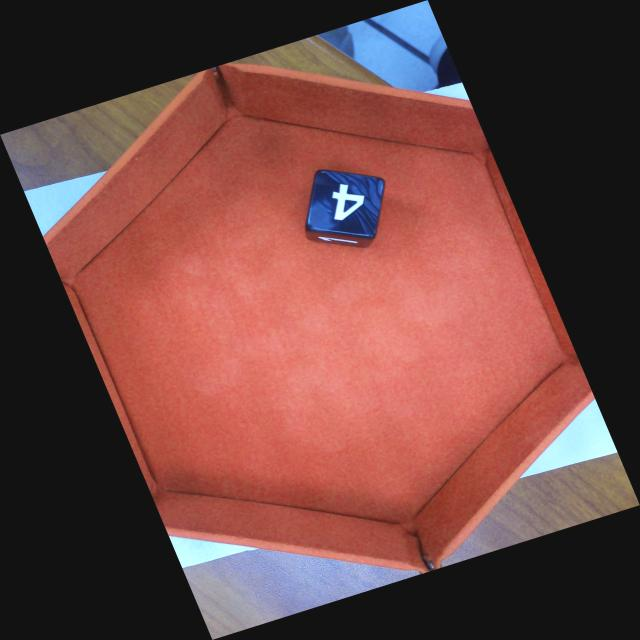dice: (302, 166, 388, 239)
